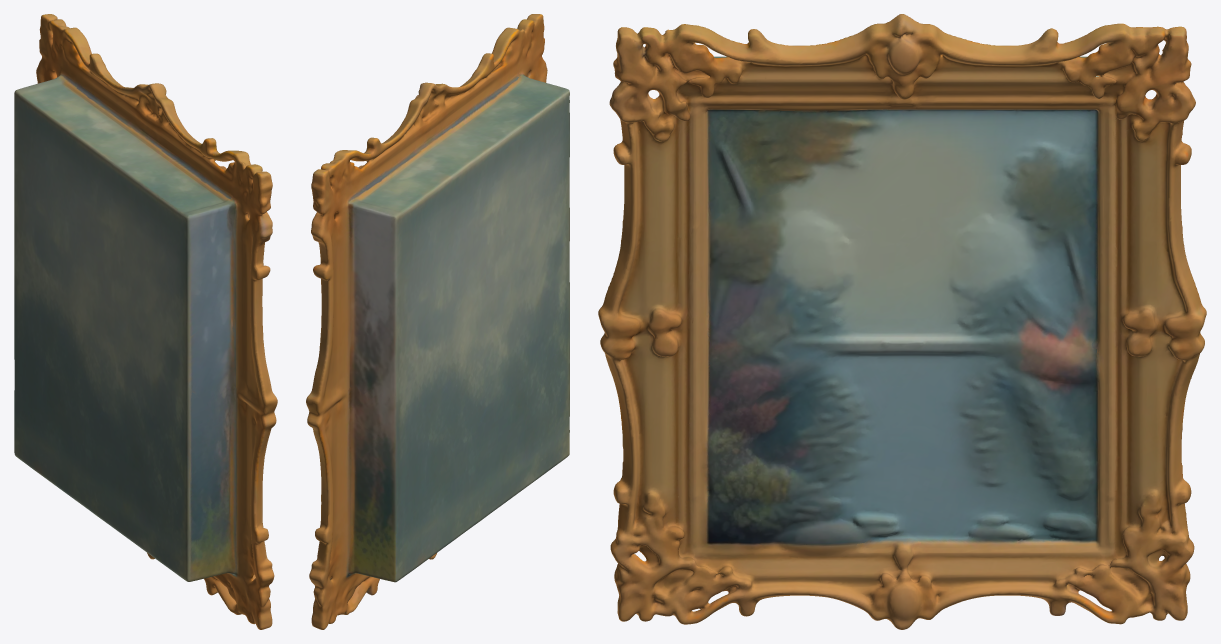
3 renders of one model, left to right at view 1: azimuth 30°, elevation 25°; view 2: azimuth 150°, elevation 25°; view 3: azimuth 270°, elevation 25°, orthographic. The views are drawn at different scales.
Parts seen in each view (by area): view 1: tripo_node_4b05fb2a-0558-42d2-9ec4-df202685aa98; view 2: tripo_node_4b05fb2a-0558-42d2-9ec4-df202685aa98; view 3: tripo_node_4b05fb2a-0558-42d2-9ec4-df202685aa98.
Boxes of the visible parts, x1,y1,x2,y2 form: tripo_node_4b05fb2a-0558-42d2-9ec4-df202685aa98: (14,14,277,629); tripo_node_4b05fb2a-0558-42d2-9ec4-df202685aa98: (306,14,569,629); tripo_node_4b05fb2a-0558-42d2-9ec4-df202685aa98: (598,14,1206,629).
Bounding box in the file's own units: 0.141 × 0.9391 × 0.8458.
1 material, 1 textured.
